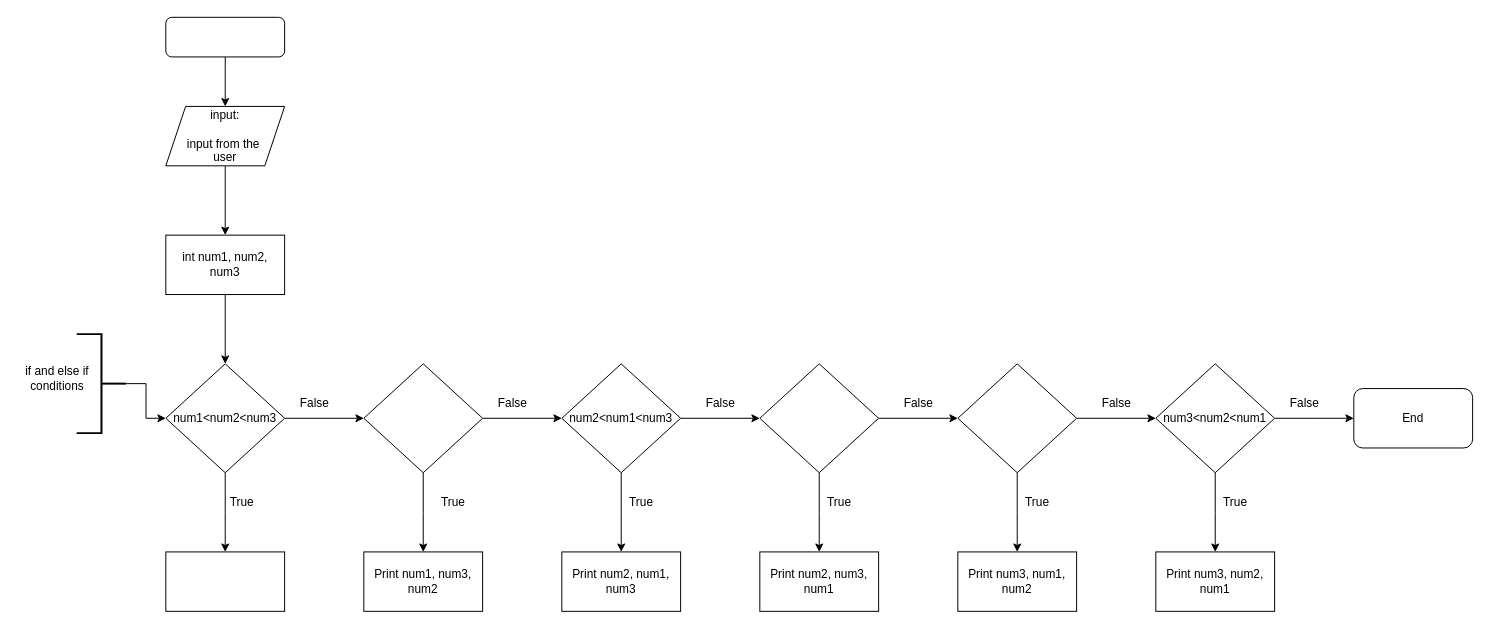
Some shapes in this 1490 by 629 pixel diagram are drawn without their labels. The centre of each missing label's shape, as x and y in pixels:
"num1<num3<num2" goes at [423,418].
"num2<num3<num1" goes at [819,418].
"num3<num1<num2" goes at [1017,418].
"Print num1, num2, num3" goes at [225,581].
"Start" goes at [225,36].
